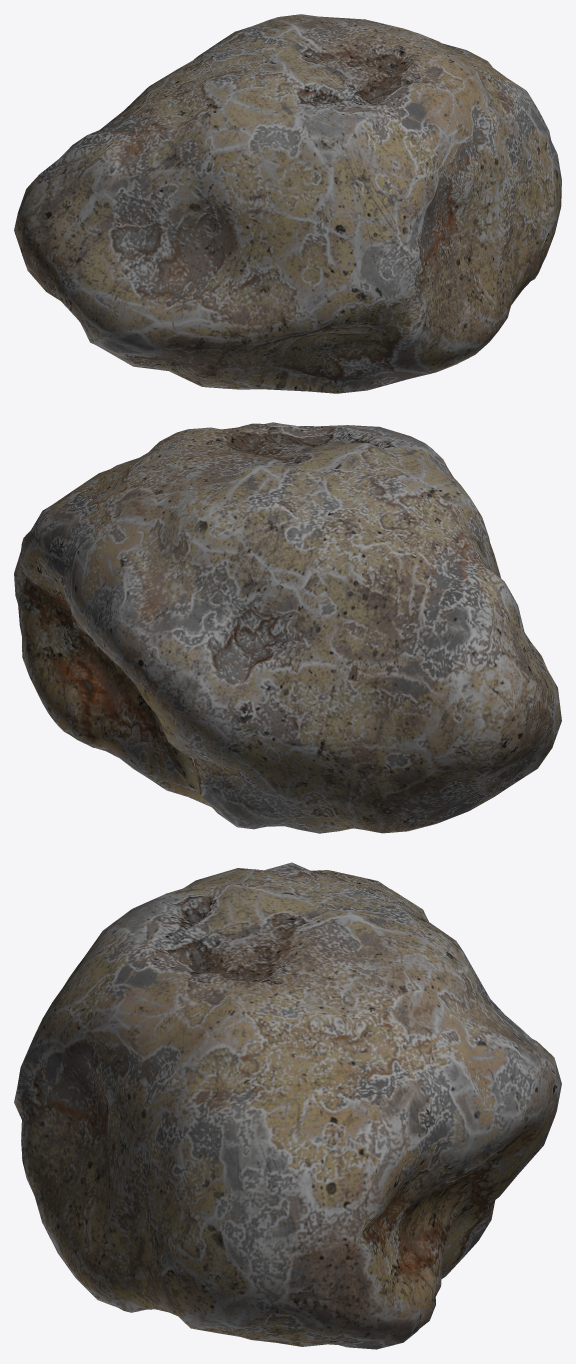
3 renders of one model, top to bottom at view 1: azimuth 30°, elevation 25°; view 2: azimuth 150°, elevation 25°; view 3: azimuth 270°, elevation 25°, orthographic. The views are drawn at different scales.
Visible parts, largest first — view 1: 6; view 2: 6; view 3: 6.
Boxes of the visible parts, <box> form: 6: <box>14,14,561,393</box>; 6: <box>14,422,561,833</box>; 6: <box>14,862,561,1349</box>.
Bounding box in the file's own units: 3.31 × 2.05 × 2.56.
Materials: 1 (1 with a texture image).
